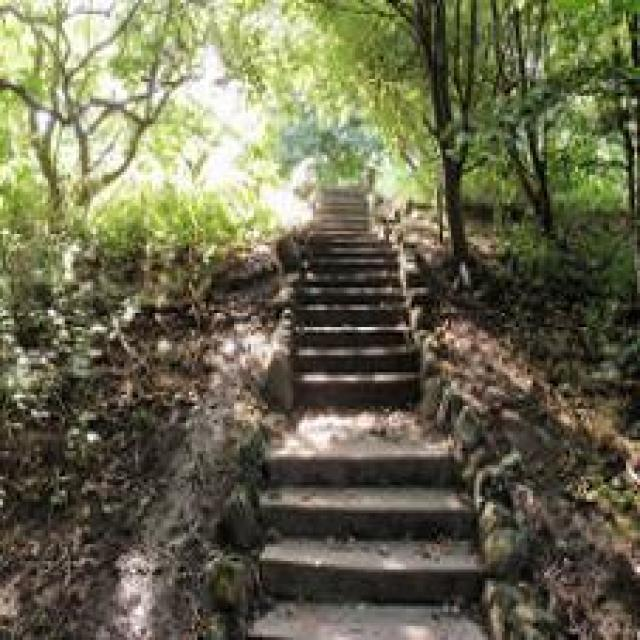upstair: (274, 227, 458, 599)
